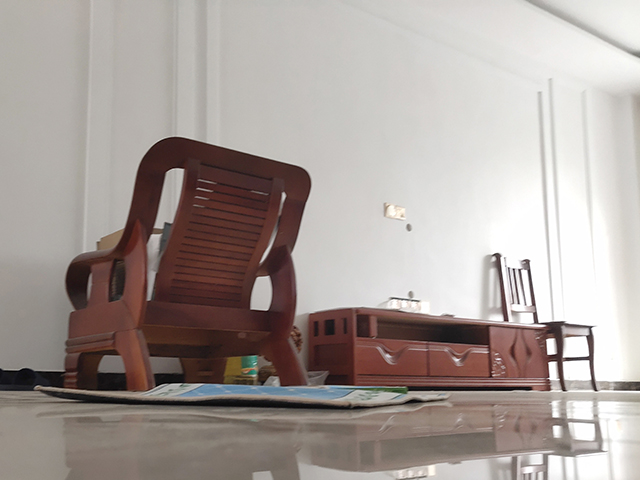book: (316, 384, 409, 396)
cabinet: (304, 306, 552, 392)
carpet: (31, 382, 450, 411)
slippers: (1, 365, 53, 392)
sofa: (62, 135, 313, 393)
stool: (492, 251, 600, 393)
